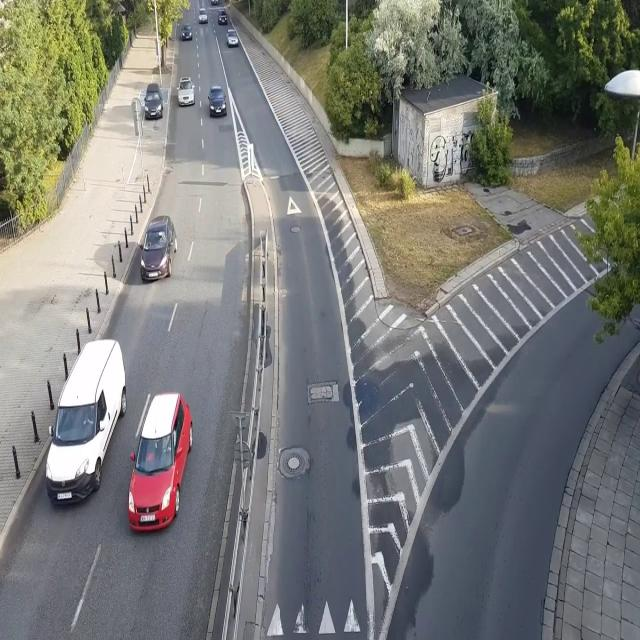car: (125, 392, 194, 532), (138, 212, 177, 280), (143, 82, 164, 118), (207, 85, 228, 118), (176, 76, 196, 108), (226, 30, 239, 48), (216, 8, 228, 26), (180, 24, 192, 41), (198, 7, 206, 23), (210, 0, 218, 5)
van: (44, 339, 127, 506)
